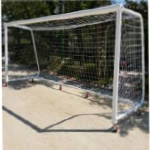goals: (4, 3, 148, 122)
